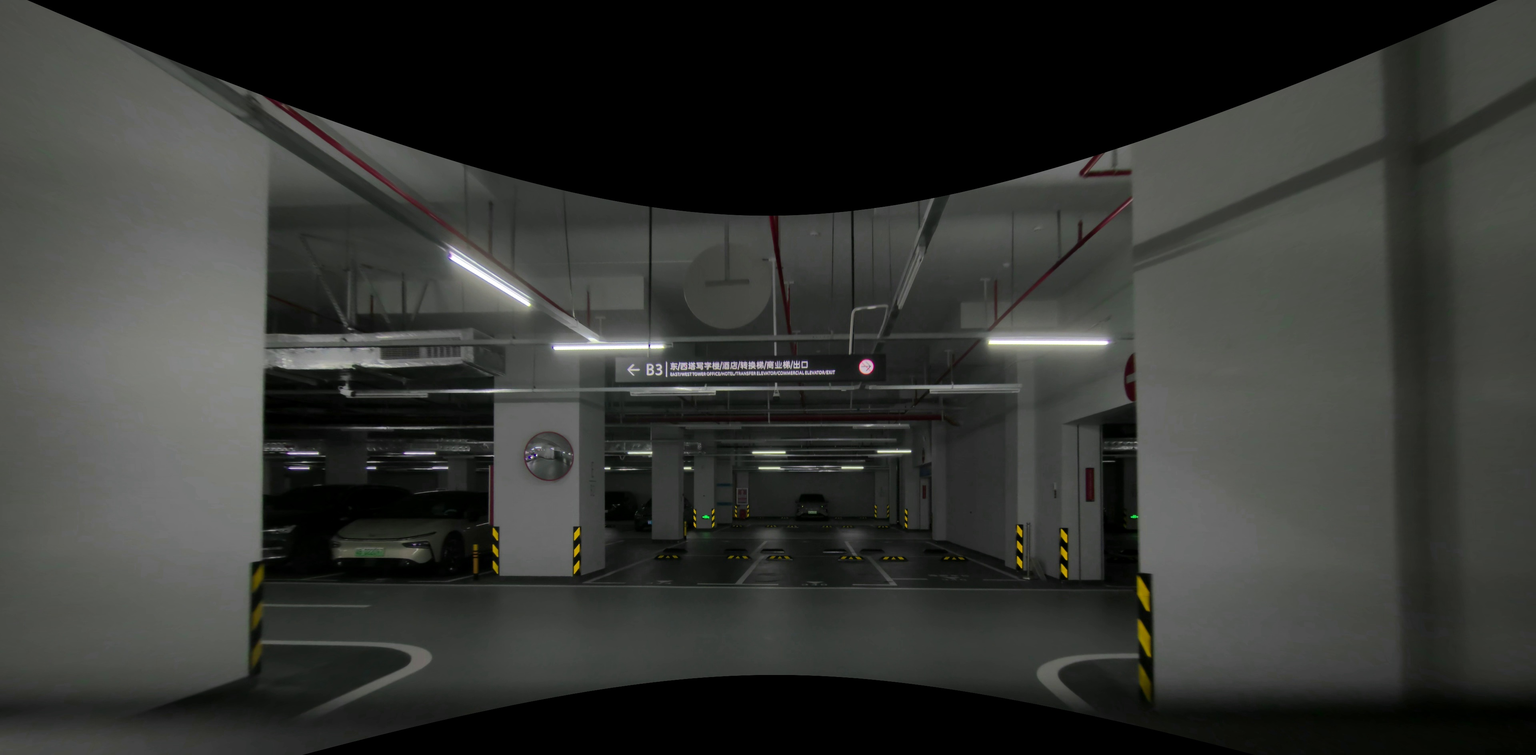B3: (645, 363, 663, 377)
exits: (1129, 514, 1138, 518), (701, 515, 710, 519)
东/西塔写字楼/酒店/转换梯/商业梯/出口: (669, 360, 810, 371)
左: (624, 363, 642, 378)
禁止右转: (857, 359, 874, 374)
